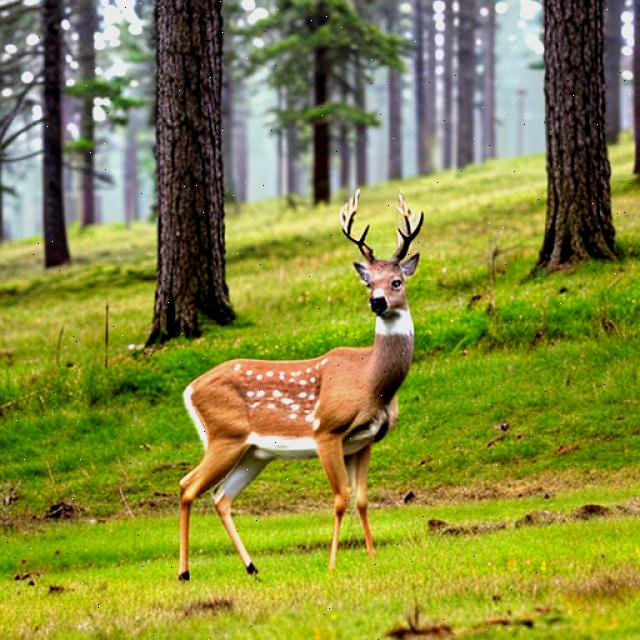deer: (122, 181, 450, 569)
